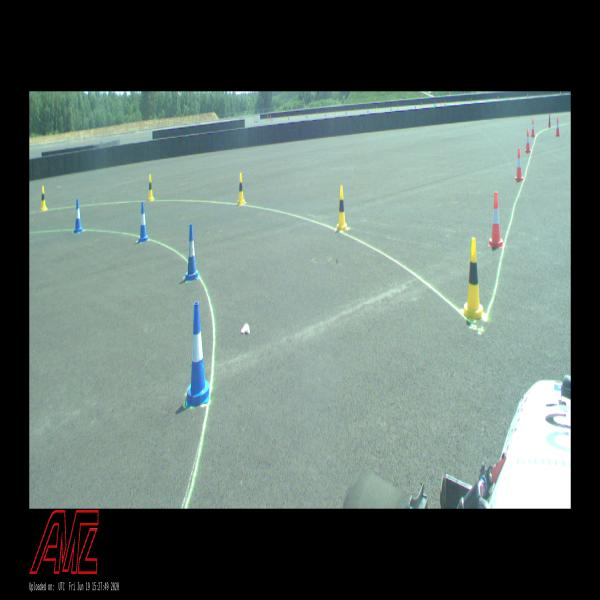blue_cone: (186, 302, 210, 407), (184, 224, 199, 280), (138, 202, 148, 242), (73, 198, 83, 234)
orange_cone: (489, 192, 503, 248), (514, 148, 524, 182), (525, 128, 531, 153), (555, 117, 560, 137), (531, 118, 535, 137)
yellow_cone: (464, 236, 483, 318), (336, 185, 348, 232), (237, 172, 246, 206), (40, 186, 48, 211), (147, 173, 154, 201)
